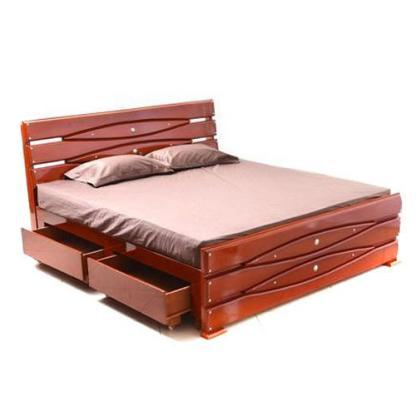Bed: (15, 95, 412, 340)
